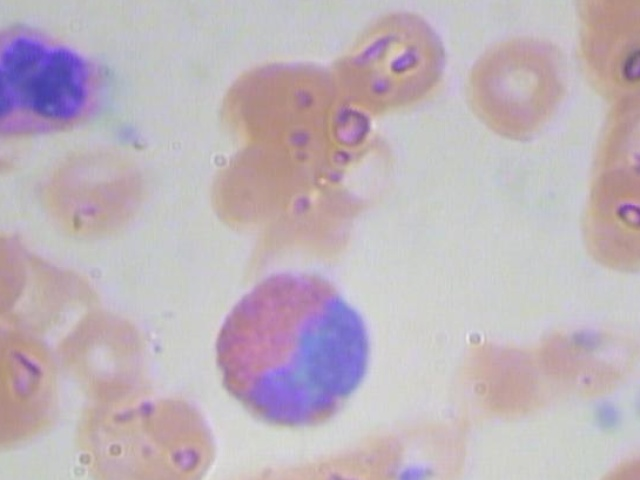Platelets: (563, 317, 606, 360), (584, 393, 628, 435), (108, 110, 152, 147), (388, 457, 431, 480), (633, 380, 640, 423)
RBC: (31, 128, 160, 251), (173, 131, 302, 254), (454, 29, 583, 151), (217, 35, 346, 157), (54, 386, 221, 480), (327, 0, 456, 117), (428, 328, 542, 434), (55, 293, 157, 402), (565, 157, 640, 280), (567, 2, 640, 124), (0, 332, 69, 460), (584, 74, 640, 197), (580, 436, 640, 480)
WBC: (204, 258, 381, 433), (0, 13, 118, 144)
